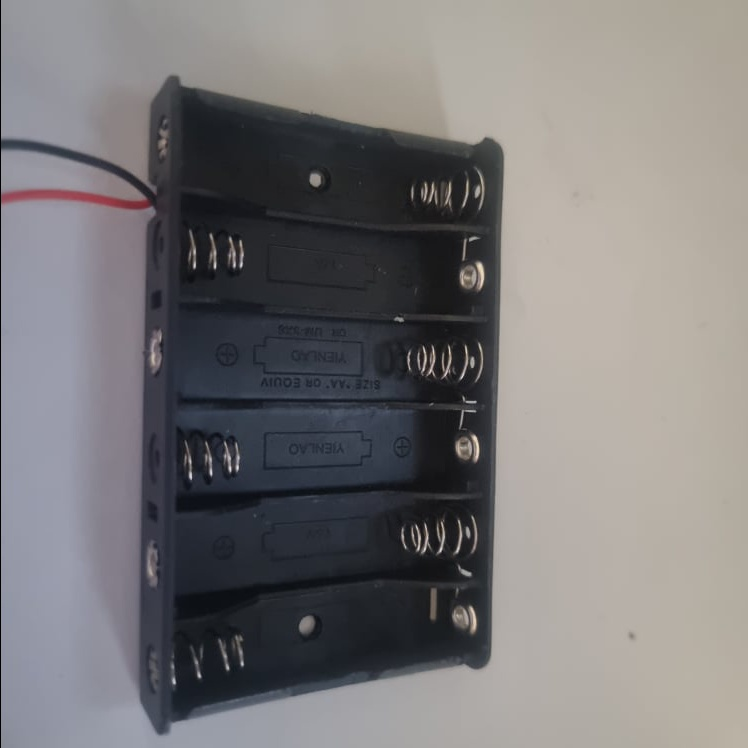BATTERY BOX: (133, 71, 503, 734)
